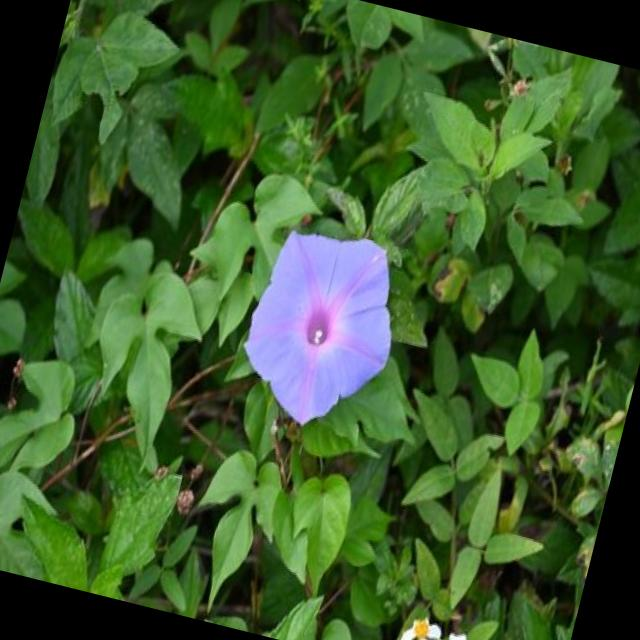ipomoea: (224, 212, 418, 446), (424, 622, 484, 640)
